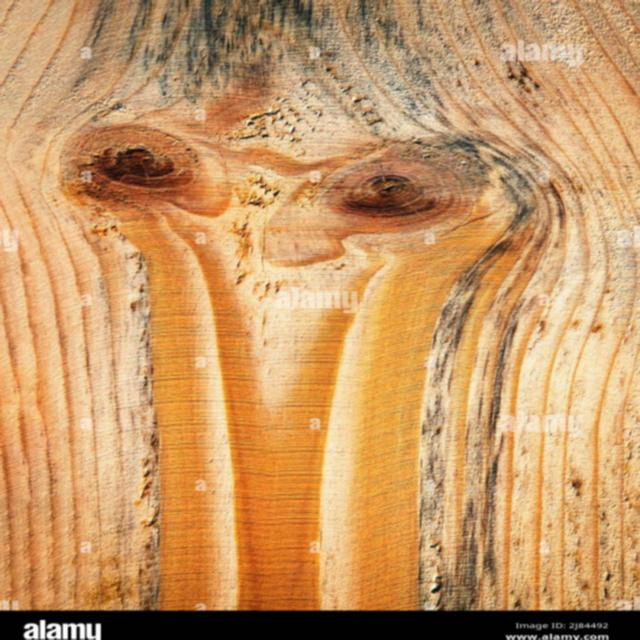have-wooden-eyes: (344, 174, 437, 232), (93, 147, 174, 184)
